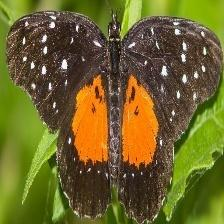butterfly: (6, 9, 223, 224)
